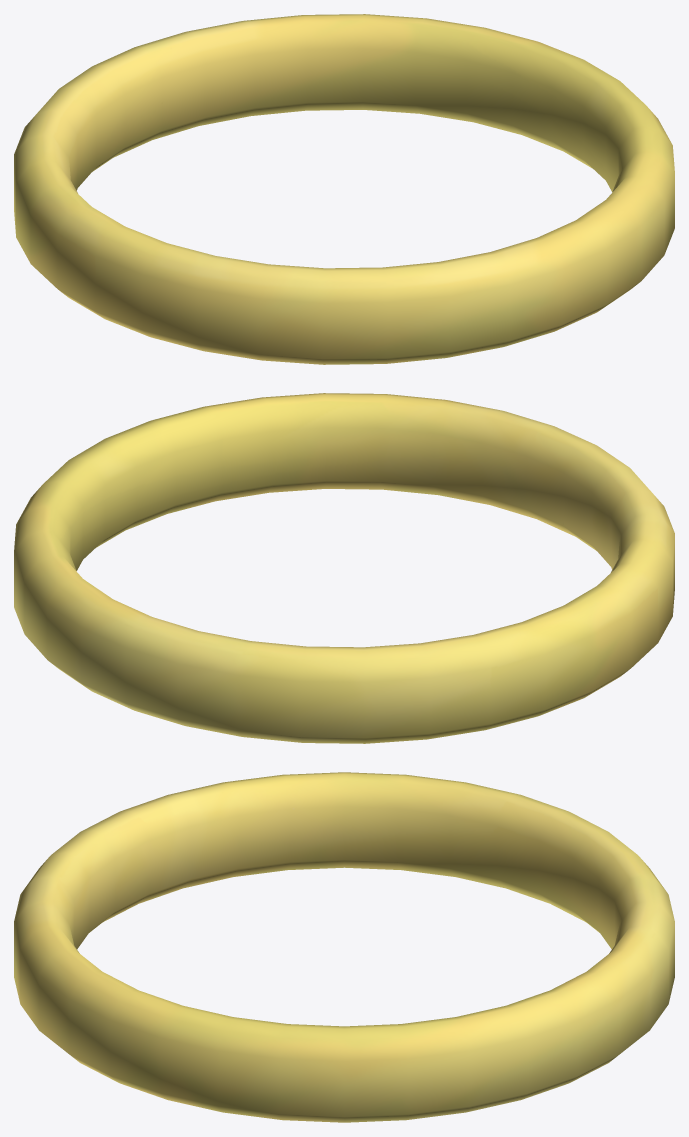
The model's file is ring.fbx.
The picture shows the model from 3 angles, top to bottom: view 1: azimuth 30°, elevation 25°; view 2: azimuth 150°, elevation 25°; view 3: azimuth 270°, elevation 25°; orthographic projection.
Parts seen in each view (by area): view 1: Circle; view 2: Circle; view 3: Circle.
Part boxes in pixels (x1,y1,x2,y2): Circle: (14,14,674,364); Circle: (14,393,674,743); Circle: (14,772,674,1122).
Size of the model in its own units: 200 by 30.19 by 200.
1 material, 1 textured.
